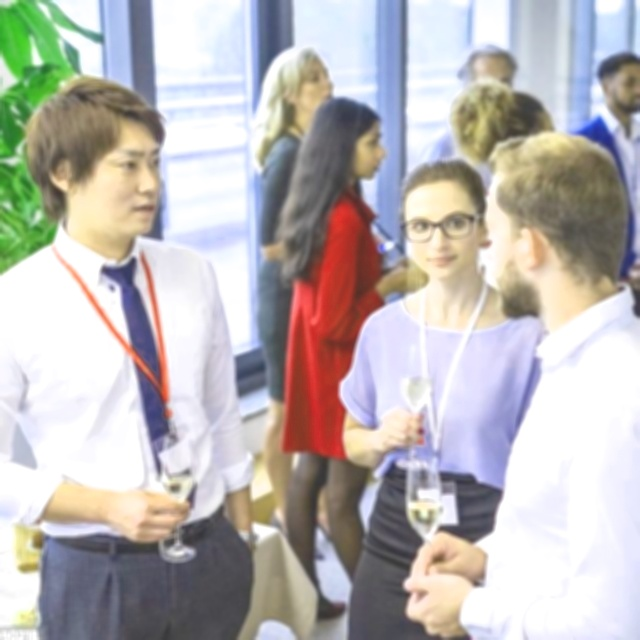Sin_Casco_Mascarrilla: (27, 74, 169, 236), (400, 159, 486, 287), (310, 99, 386, 186)
Sin_Chaleco: (0, 242, 238, 547), (495, 305, 640, 631)
